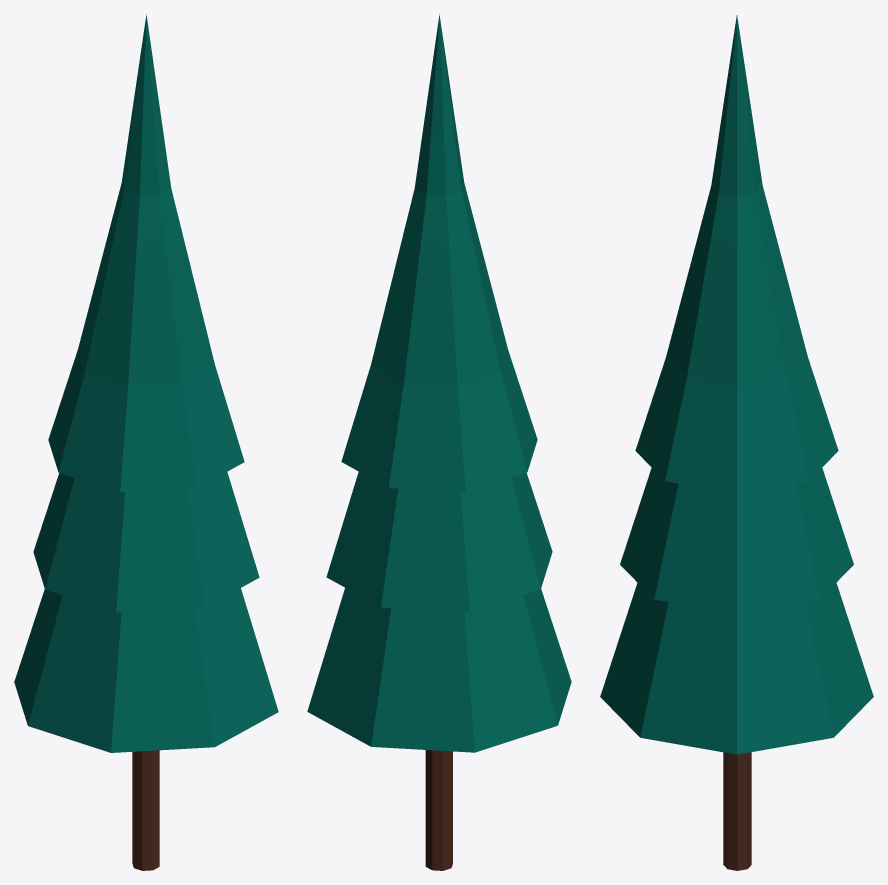
The model's file is pino2.obj.
3 views of the same model, side by side, from view 1: azimuth 30°, elevation 25°; view 2: azimuth 150°, elevation 25°; view 3: azimuth 270°, elevation 25° (orthographic).
Parts seen in each view (by area): view 1: Firtree_2_3; view 2: Firtree_2_3; view 3: Firtree_2_3.
Boxes of the visible parts, box(x1,y1,x2,y2) form: Firtree_2_3: box(14, 14, 278, 870); Firtree_2_3: box(307, 14, 571, 870); Firtree_2_3: box(600, 15, 873, 870).
Size of the model in its own units: 1.11 by 3.82 by 1.11.
1 material, 1 textured.
